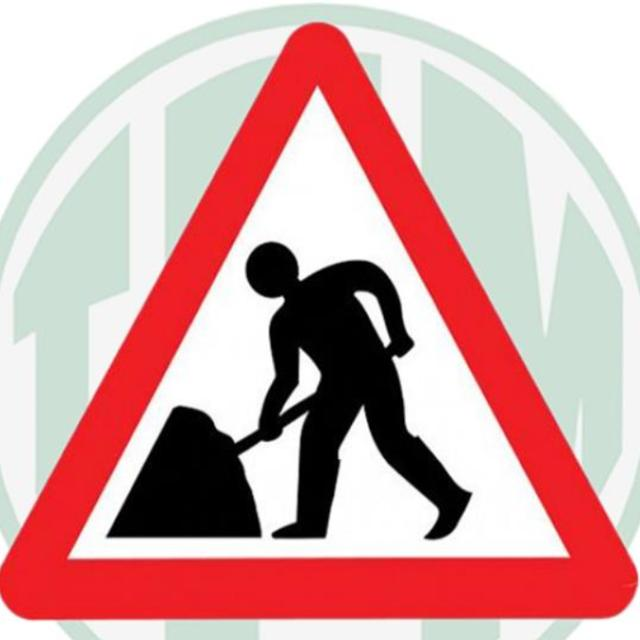WORKERS: (0, 23, 637, 619)
